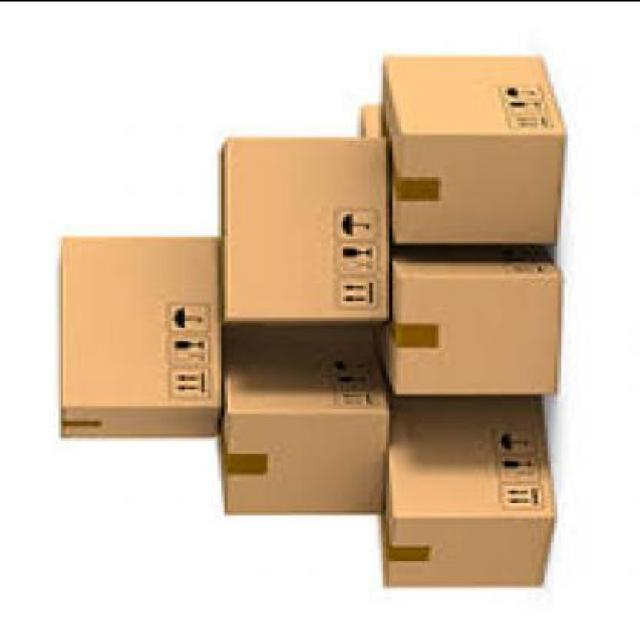CARDBOARD: (211, 323, 392, 517), (376, 395, 555, 591), (379, 57, 561, 248), (215, 138, 393, 332), (59, 237, 221, 440), (370, 248, 558, 395), (356, 106, 386, 139)
